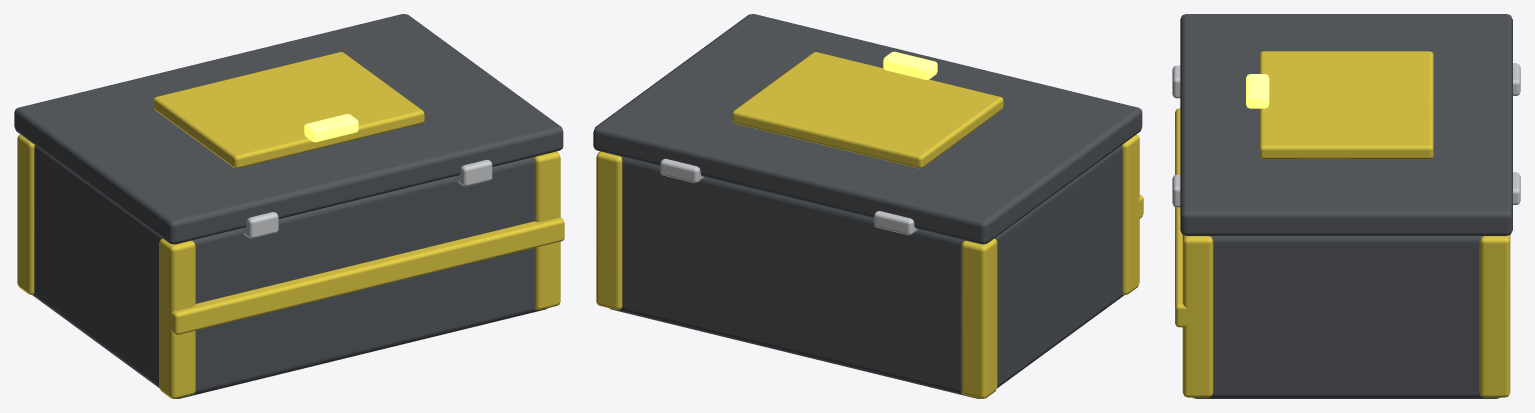
Rendered from battle-royale-town-and-airfield-loadout-drop-case-45251cef__28231.glb.
The picture shows the model from 3 angles, left to right: view 1: azimuth 30°, elevation 25°; view 2: azimuth 150°, elevation 25°; view 3: azimuth 270°, elevation 25°; orthographic projection. The views are drawn at different scales.
Visible parts, largest first — view 1: loadout-drop-case, lid/gunmetal, lid/yellow, lid/lootLegendary; view 2: loadout-drop-case, lid/gunmetal, lid/yellow, lid/steel, lid/lootLegendary; view 3: loadout-drop-case, lid/gunmetal, lid/yellow, lid/lootLegendary, lid/steel.
Boxes of the visible parts, x1,y1,x2,y2 form: loadout-drop-case: (17,134,564,398); lid/gunmetal: (14,14,563,244); lid/yellow: (153,52,424,168); lid/lootLegendary: (304,114,358,142); loadout-drop-case: (596,134,1143,398); lid/gunmetal: (593,14,1142,244); lid/yellow: (732,52,1003,168); lid/steel: (660,158,918,235); lid/lootLegendary: (883,51,937,79); loadout-drop-case: (1172,65,1510,398); lid/gunmetal: (1180,14,1512,235); lid/yellow: (1259,51,1433,159); lid/lootLegendary: (1246,74,1269,108); lid/steel: (1513,63,1520,204).
Bounding box in the file's own units: 0.93 × 0.475 × 0.68.
